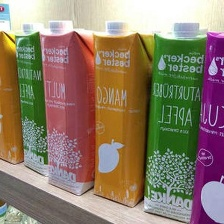carton: (141, 18, 199, 224), (91, 16, 148, 207), (38, 18, 96, 196), (188, 25, 224, 223), (12, 20, 53, 177), (0, 24, 25, 166)
